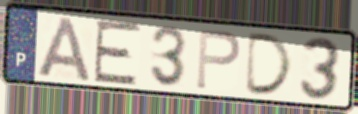3: (297, 36, 344, 103), (147, 25, 189, 89)
A: (35, 14, 94, 83)
D: (242, 30, 296, 97)
E: (91, 19, 144, 87)
P: (194, 26, 242, 92)
